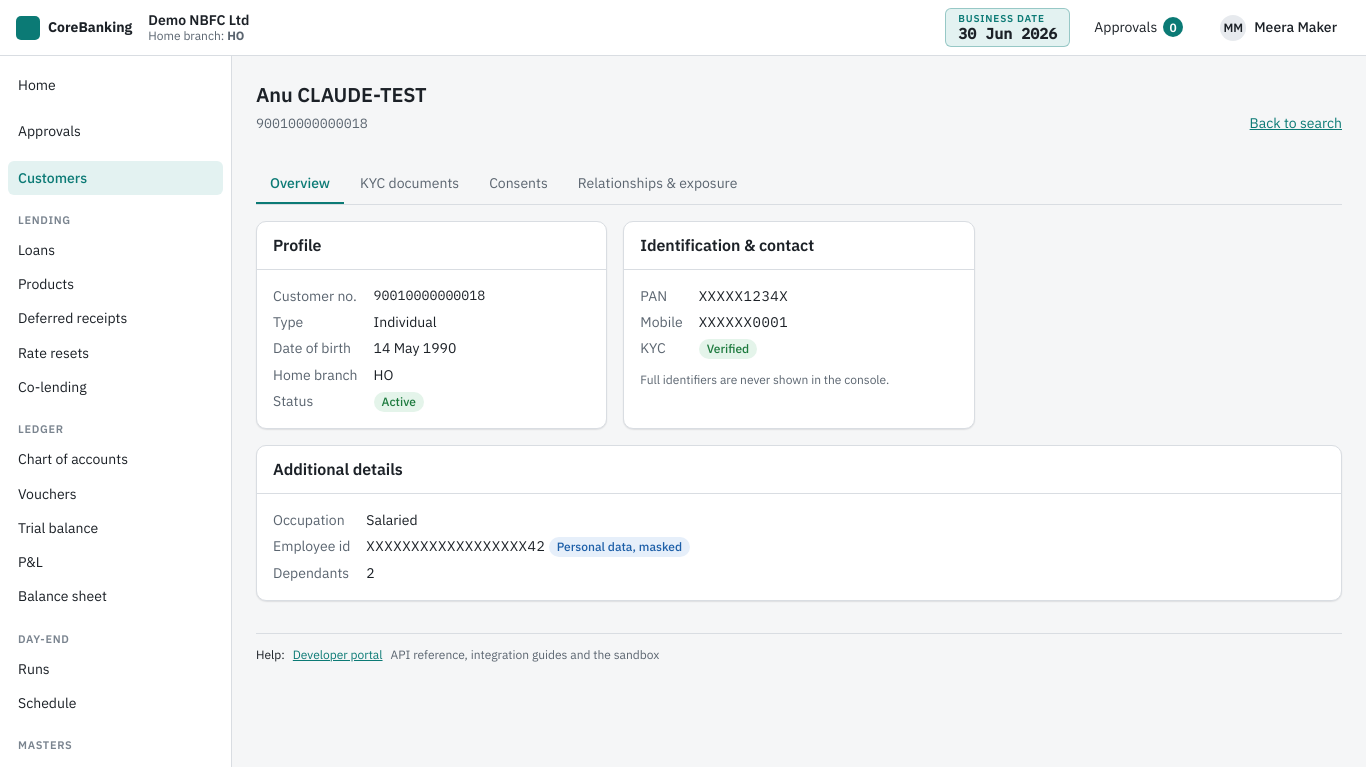
Test: consents › marks a withdrawn servicing consent as retained for legal obligation; legitimate use cannot be withdrawn
Click the tab "Consents".
click(518, 184)  # box [475,165,562,204]
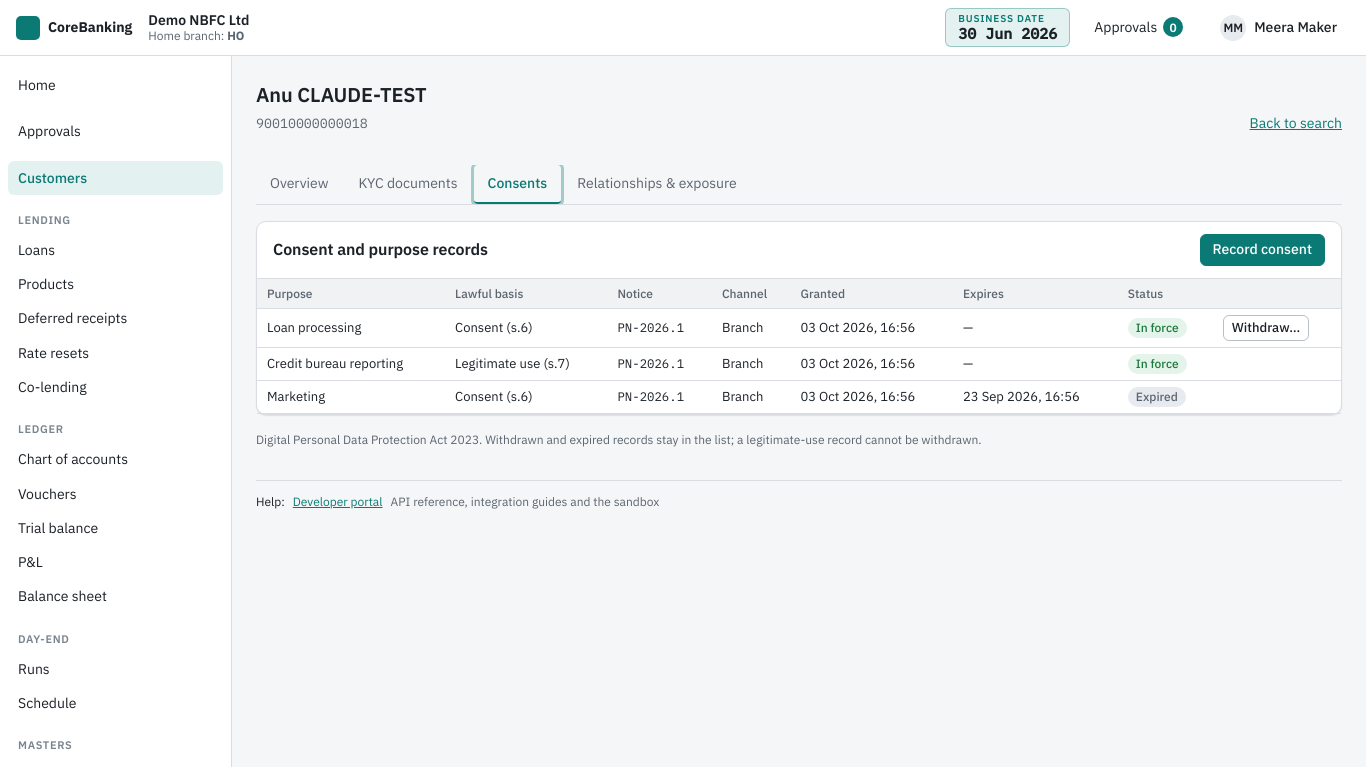
Expected: the row that starts with "Credit bureau reporting" shows "Legitimate use (s.7)", [455,355,570,372]
Expected: the row that starts with "Marketing" shows "Expired", [1136,389,1178,404]
Click the button with aria-label "Withdraw consent for Loan processing".
click(1266, 328)  # box [1223,315,1309,341]
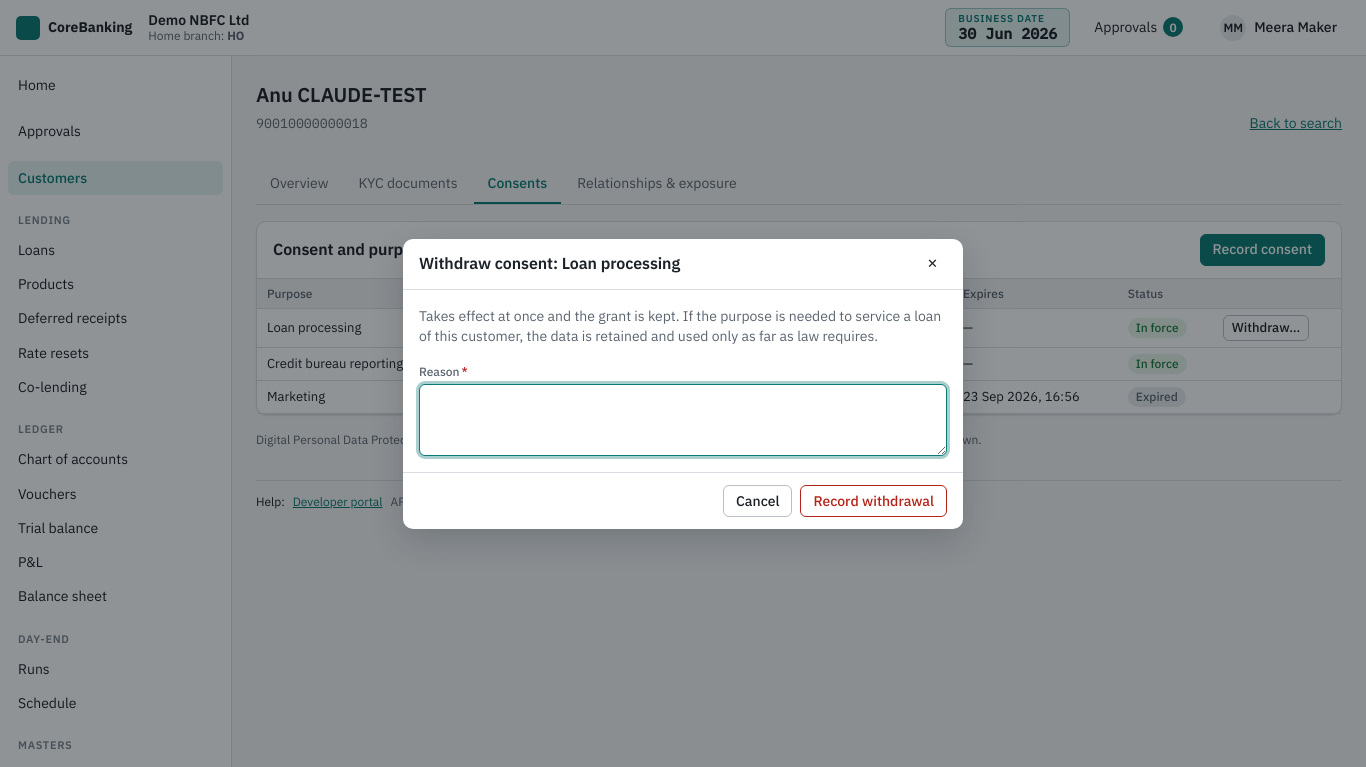
Type "CLAUDE-TEST" into the text box labelled "Reason*".
click(683, 420); type("CLAUDE-TEST")  # box [419,384,947,456]
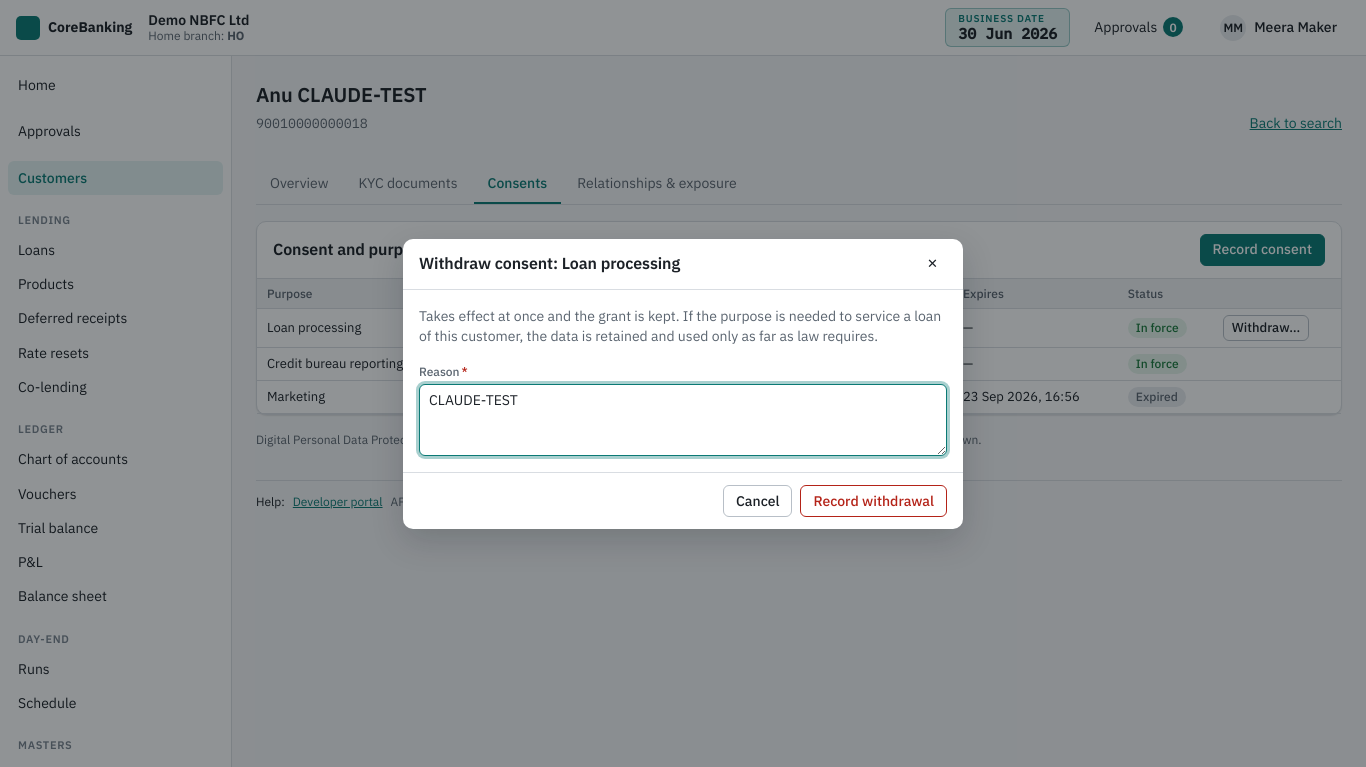
Click the button "Record withdrawal".
click(874, 501)  # box [800,485,947,517]
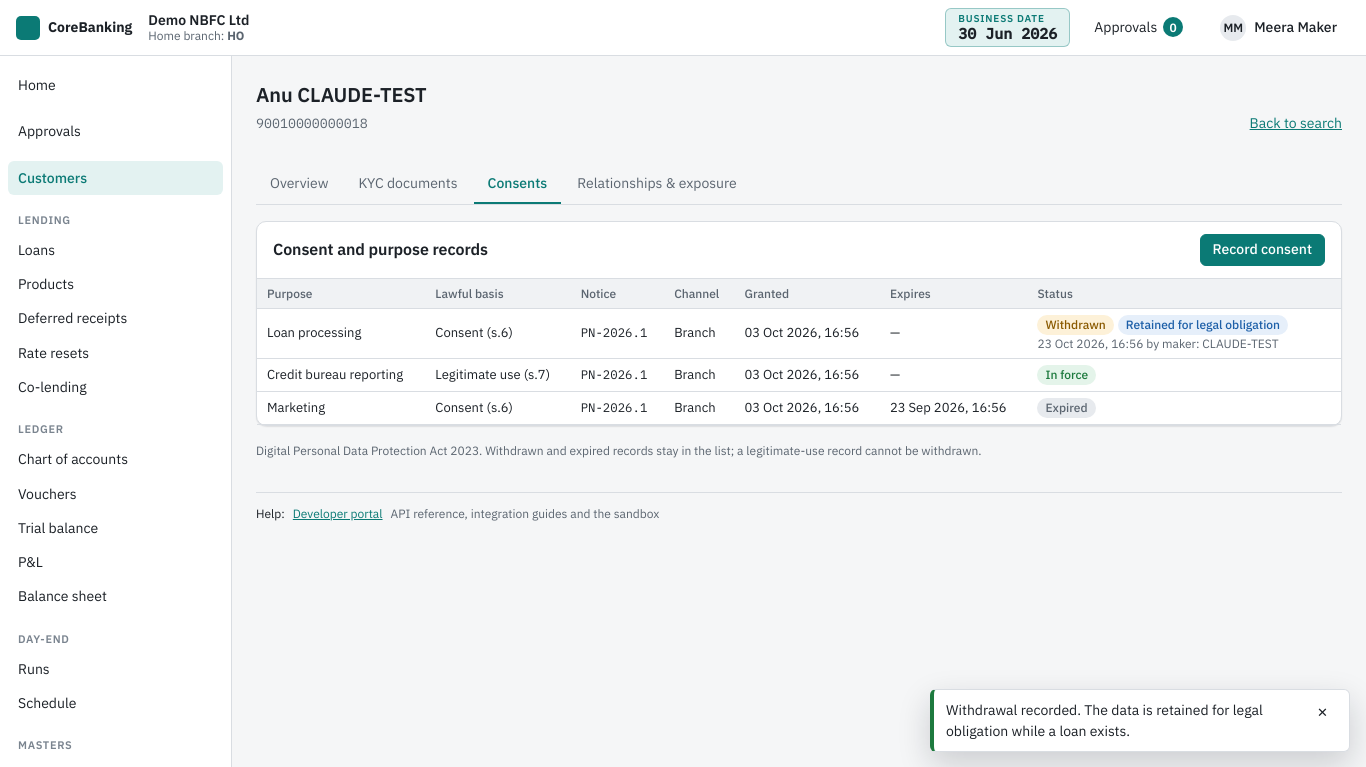
Expected: the text "retained for legal obligation while a loan exists" is shown, [946,701,1263,740]
Expected: the text "Retained for legal obligation" is shown, [1118,315,1288,335]
